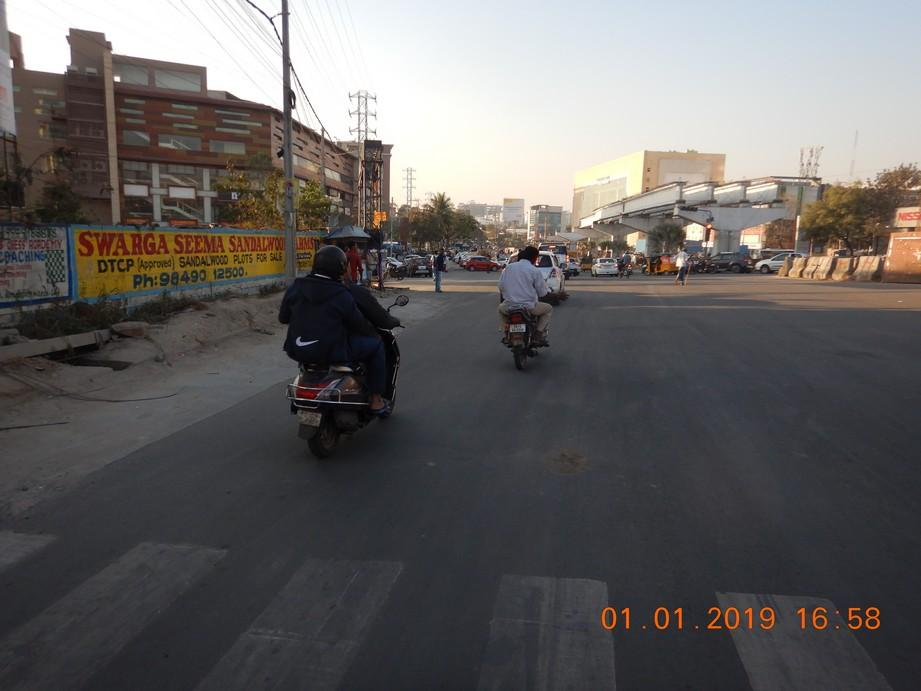plate: (509, 323, 526, 333)
